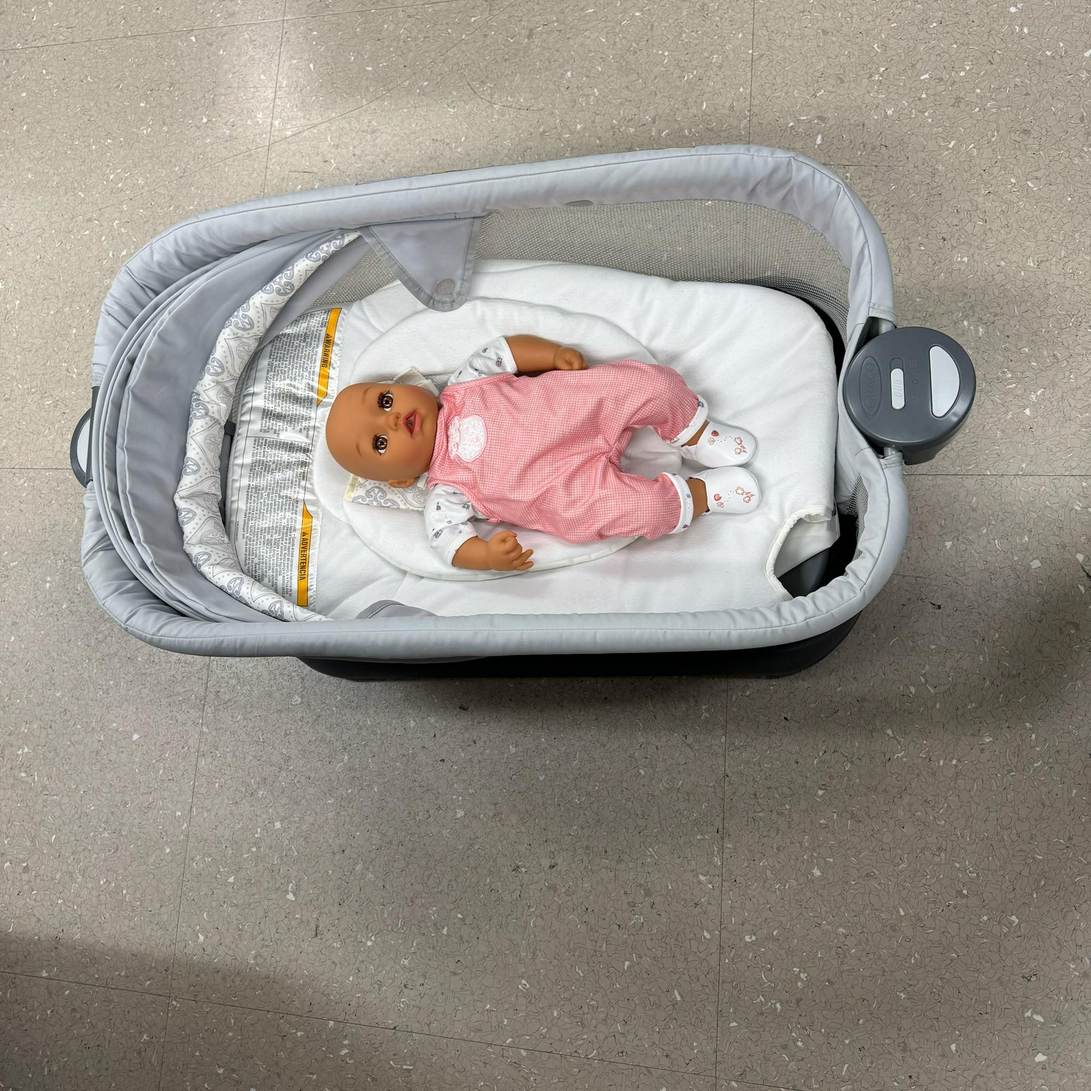baby: (314, 317, 773, 581)
